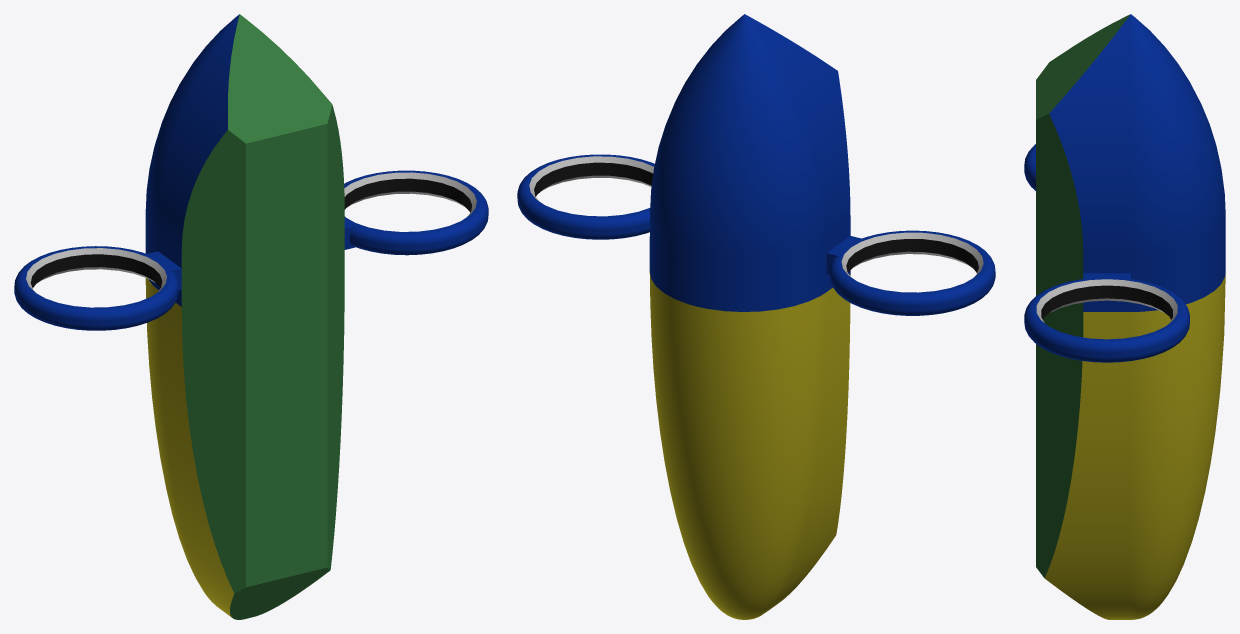
The model's file is Ship_8.fbx.
3 views of the same model, side by side, from view 1: azimuth 30°, elevation 25°; view 2: azimuth 150°, elevation 25°; view 3: azimuth 270°, elevation 25° (orthographic).
Visible parts, largest first — view 1: 3DGeom~48, 3DGeom~49, 3DGeom~47, 3DGeom~46, 3DGeom~45; view 2: 3DGeom~49, 3DGeom~47, 3DGeom~46, 3DGeom~45; view 3: 3DGeom~49, 3DGeom~47, 3DGeom~48, 3DGeom~46, 3DGeom~45.
Part boxes in pixels (x1=…): 3DGeom~48: x1=181, y1=14, x2=344, y2=619; 3DGeom~49: x1=14, y1=14, x2=488, y2=330; 3DGeom~47: x1=145, y1=278, x2=234, y2=617; 3DGeom~46: x1=31, y1=178, x2=472, y2=287; 3DGeom~45: x1=26, y1=172, x2=476, y2=293; 3DGeom~49: x1=517, y1=14, x2=995, y2=315; 3DGeom~47: x1=649, y1=271, x2=850, y2=619; 3DGeom~46: x1=534, y1=162, x2=978, y2=272; 3DGeom~45: x1=529, y1=156, x2=983, y2=277; 3DGeom~49: x1=1024, y1=14, x2=1225, y2=362; 3DGeom~47: x1=1044, y1=274, x2=1225, y2=619; 3DGeom~48: x1=1036, y1=14, x2=1130, y2=577; 3DGeom~46: x1=1041, y1=285, x2=1172, y2=319; 3DGeom~45: x1=1036, y1=279, x2=1177, y2=322.
Bounding box in the file's own units: 0.111 × 0.0425 × 0.14.
